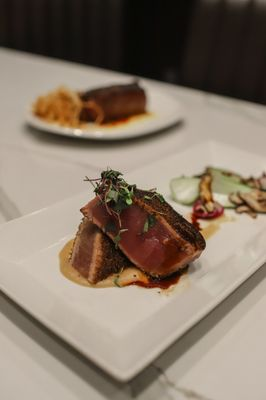soup: (62, 168, 207, 289)
